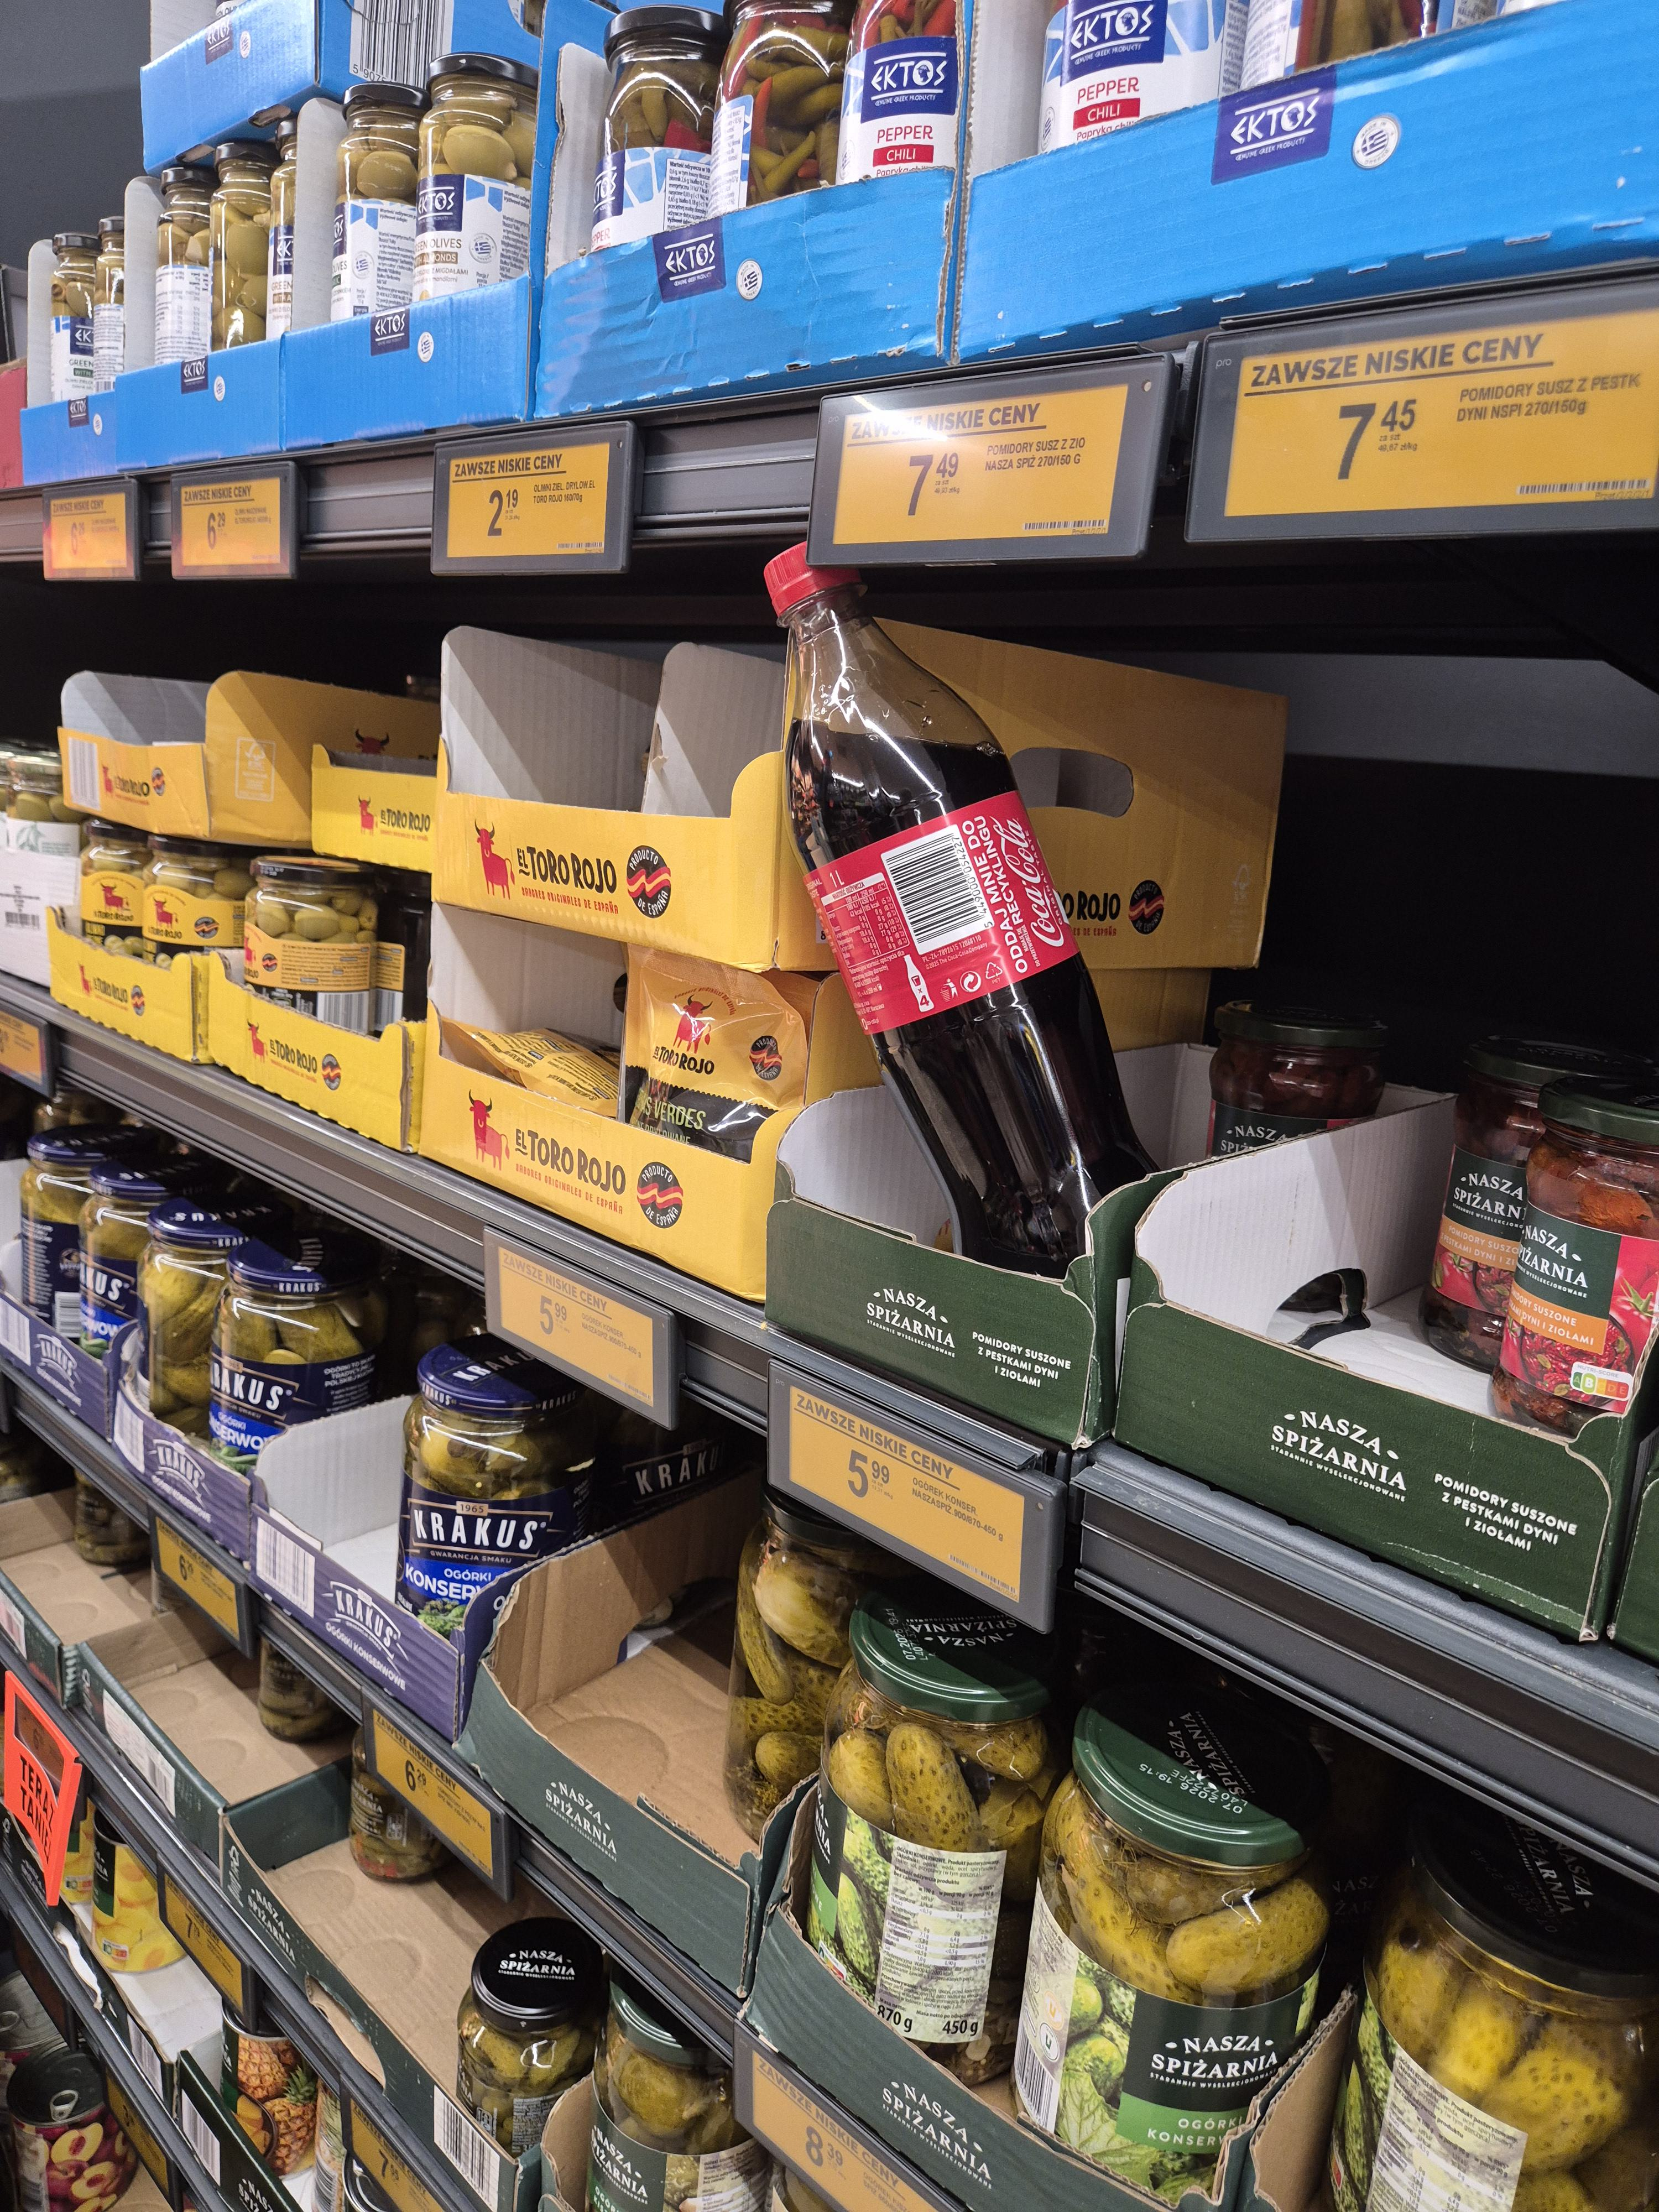Coca Cola: (739, 538, 1188, 1292)
